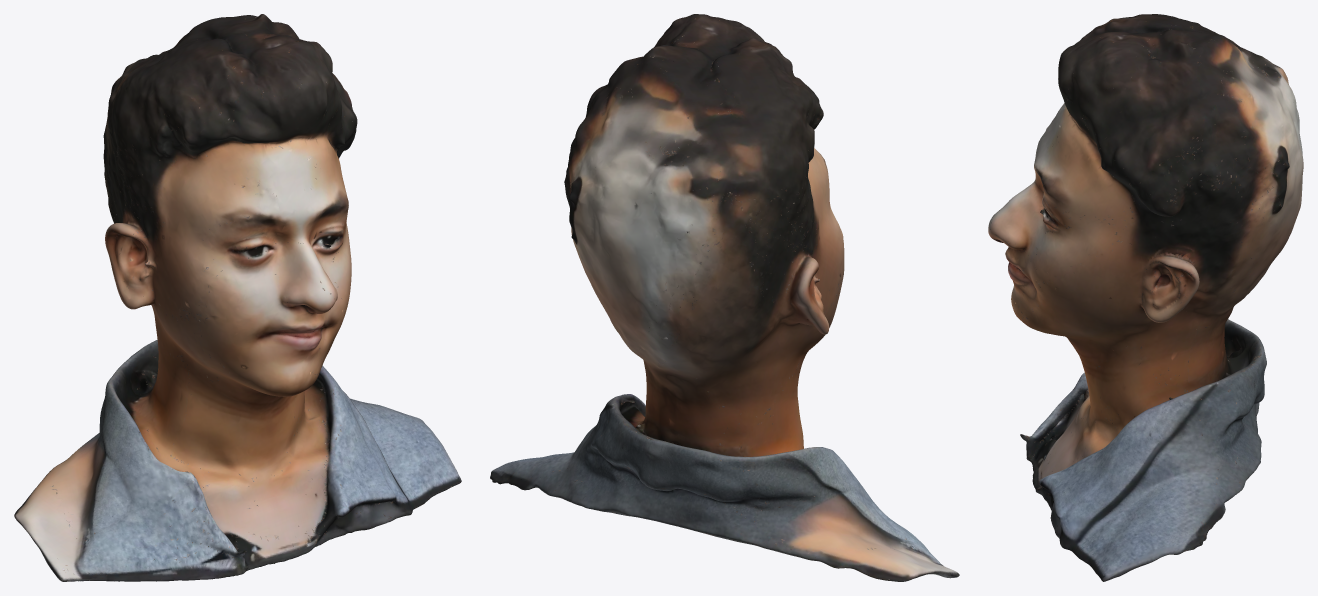
File: avatar2_optimized.glb
3 views of the same model, side by side, from view 1: azimuth 30°, elevation 25°; view 2: azimuth 150°, elevation 25°; view 3: azimuth 270°, elevation 25° (orthographic). The views are drawn at different scales.
Size of the model in its own units: 1.78 by 2 by 1.23.
Materials: 1 (1 with a texture image).
